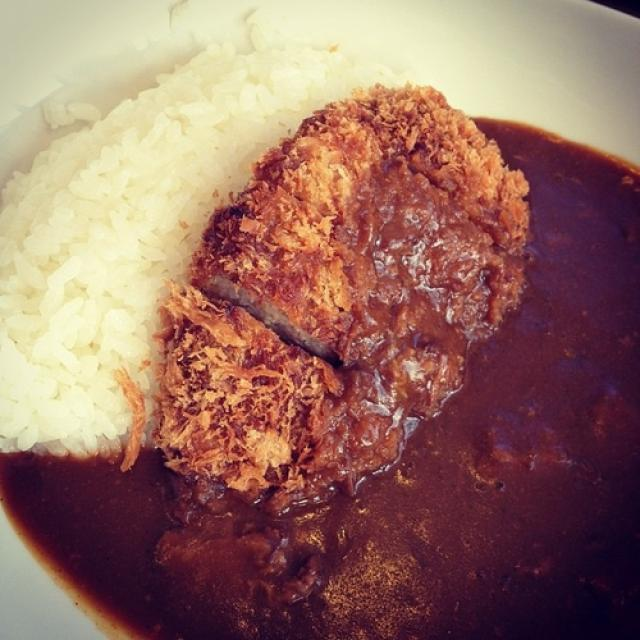炸货点心: (5, 32, 635, 631)
